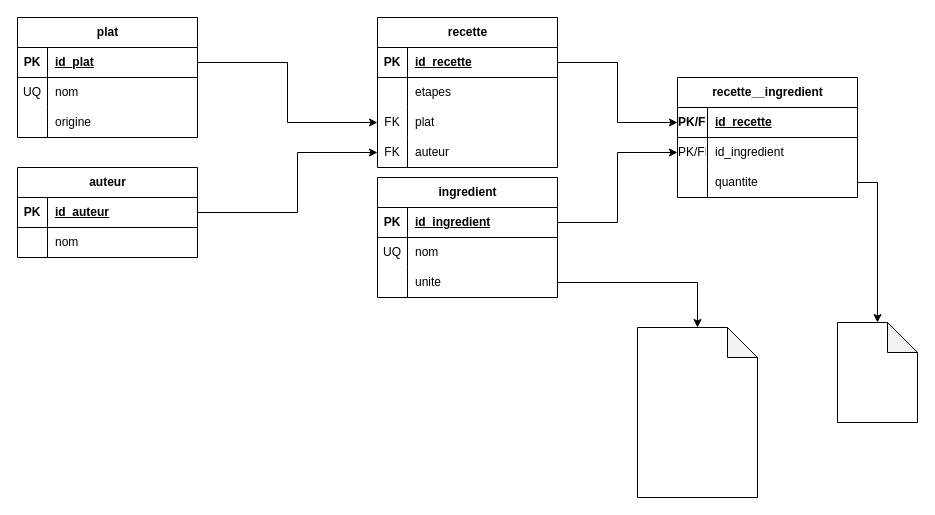
Image size: 935x515. Some labels were removed from this diagram. The centre of each missing label's shape, as x and y in pixels:
"quantite > 0" goes at pixel 877 372.
"Unite : - litre - kilogramme - pièce - cuillère ..." goes at pixel 697 412.
